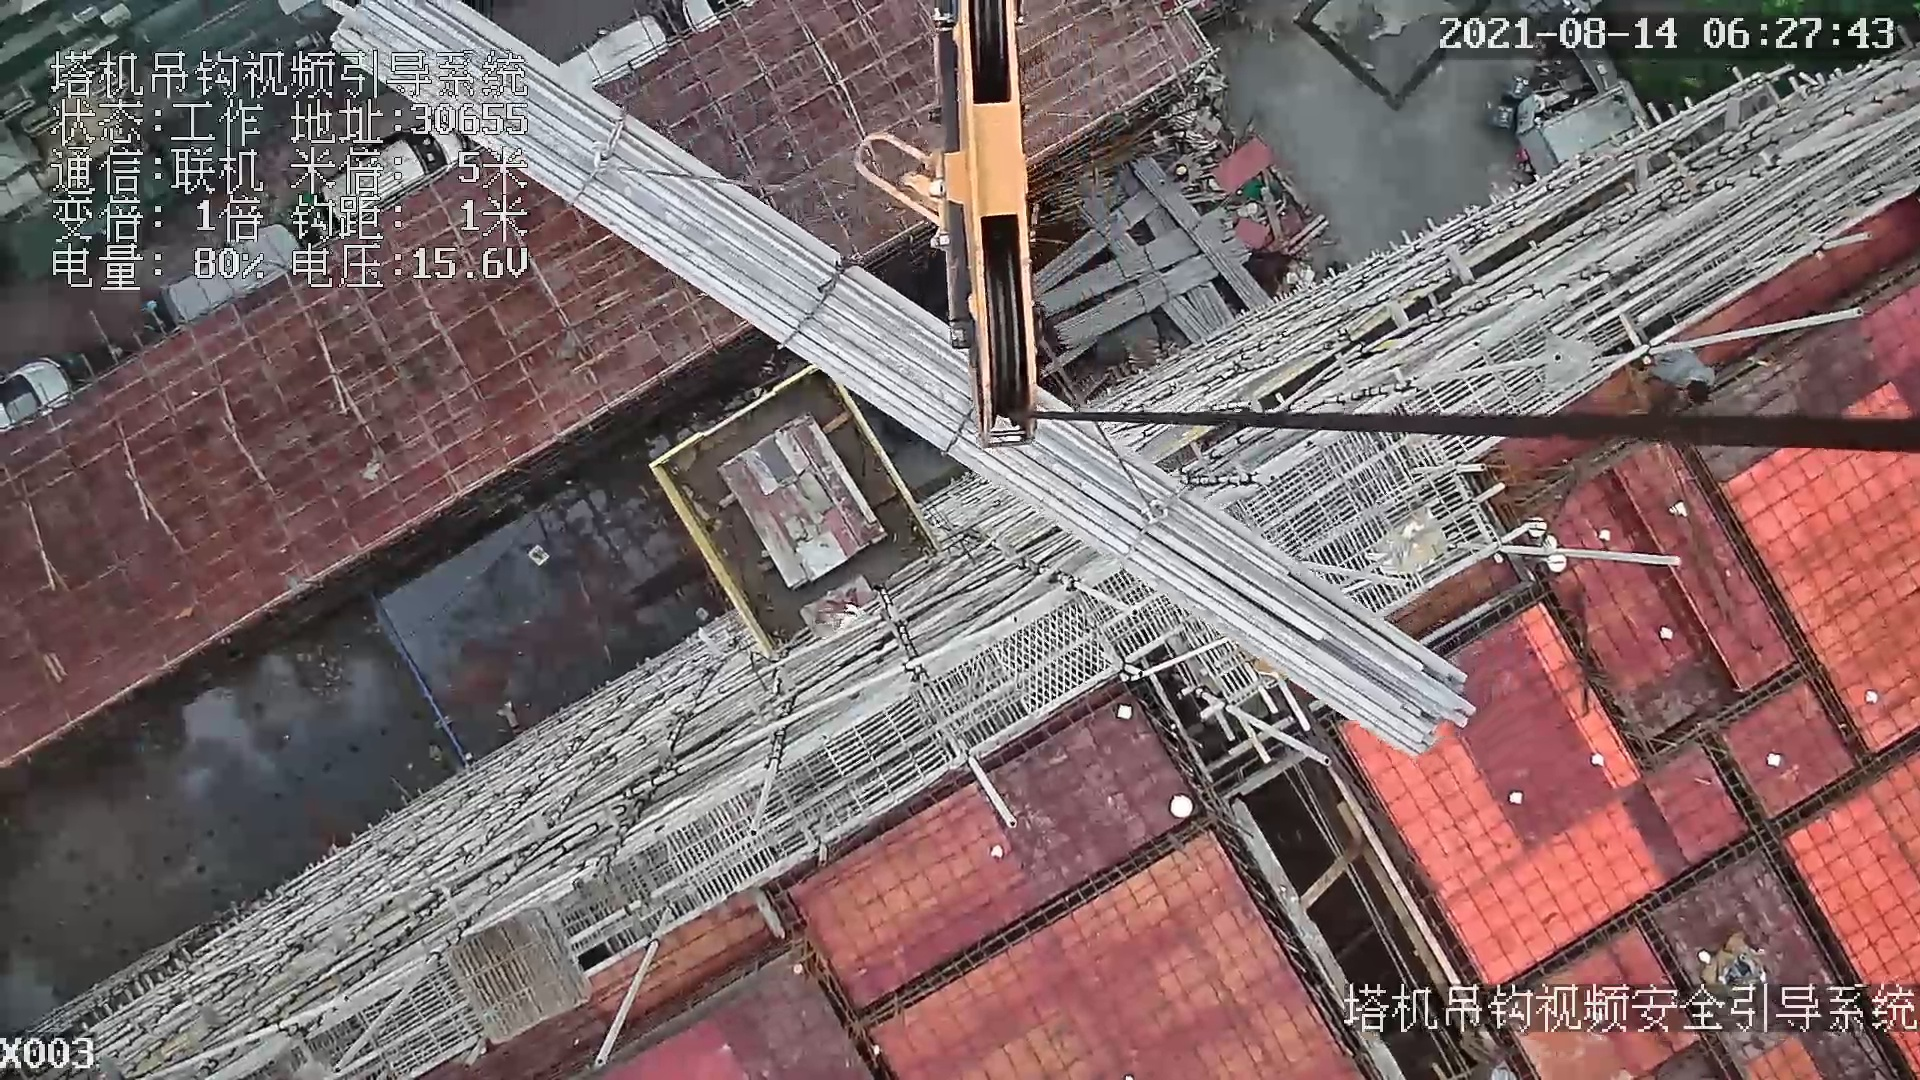hook: (928, 1, 1041, 453)
person: (1640, 351, 1732, 407)
